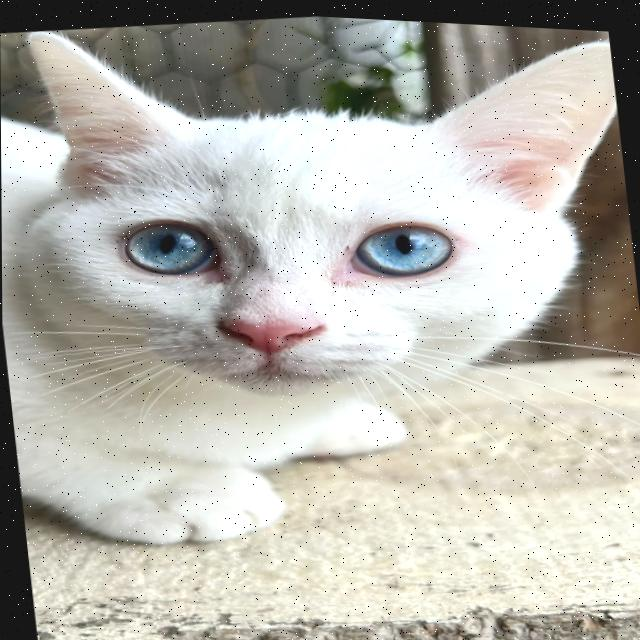Khao Manee: (0, 0, 640, 575)
